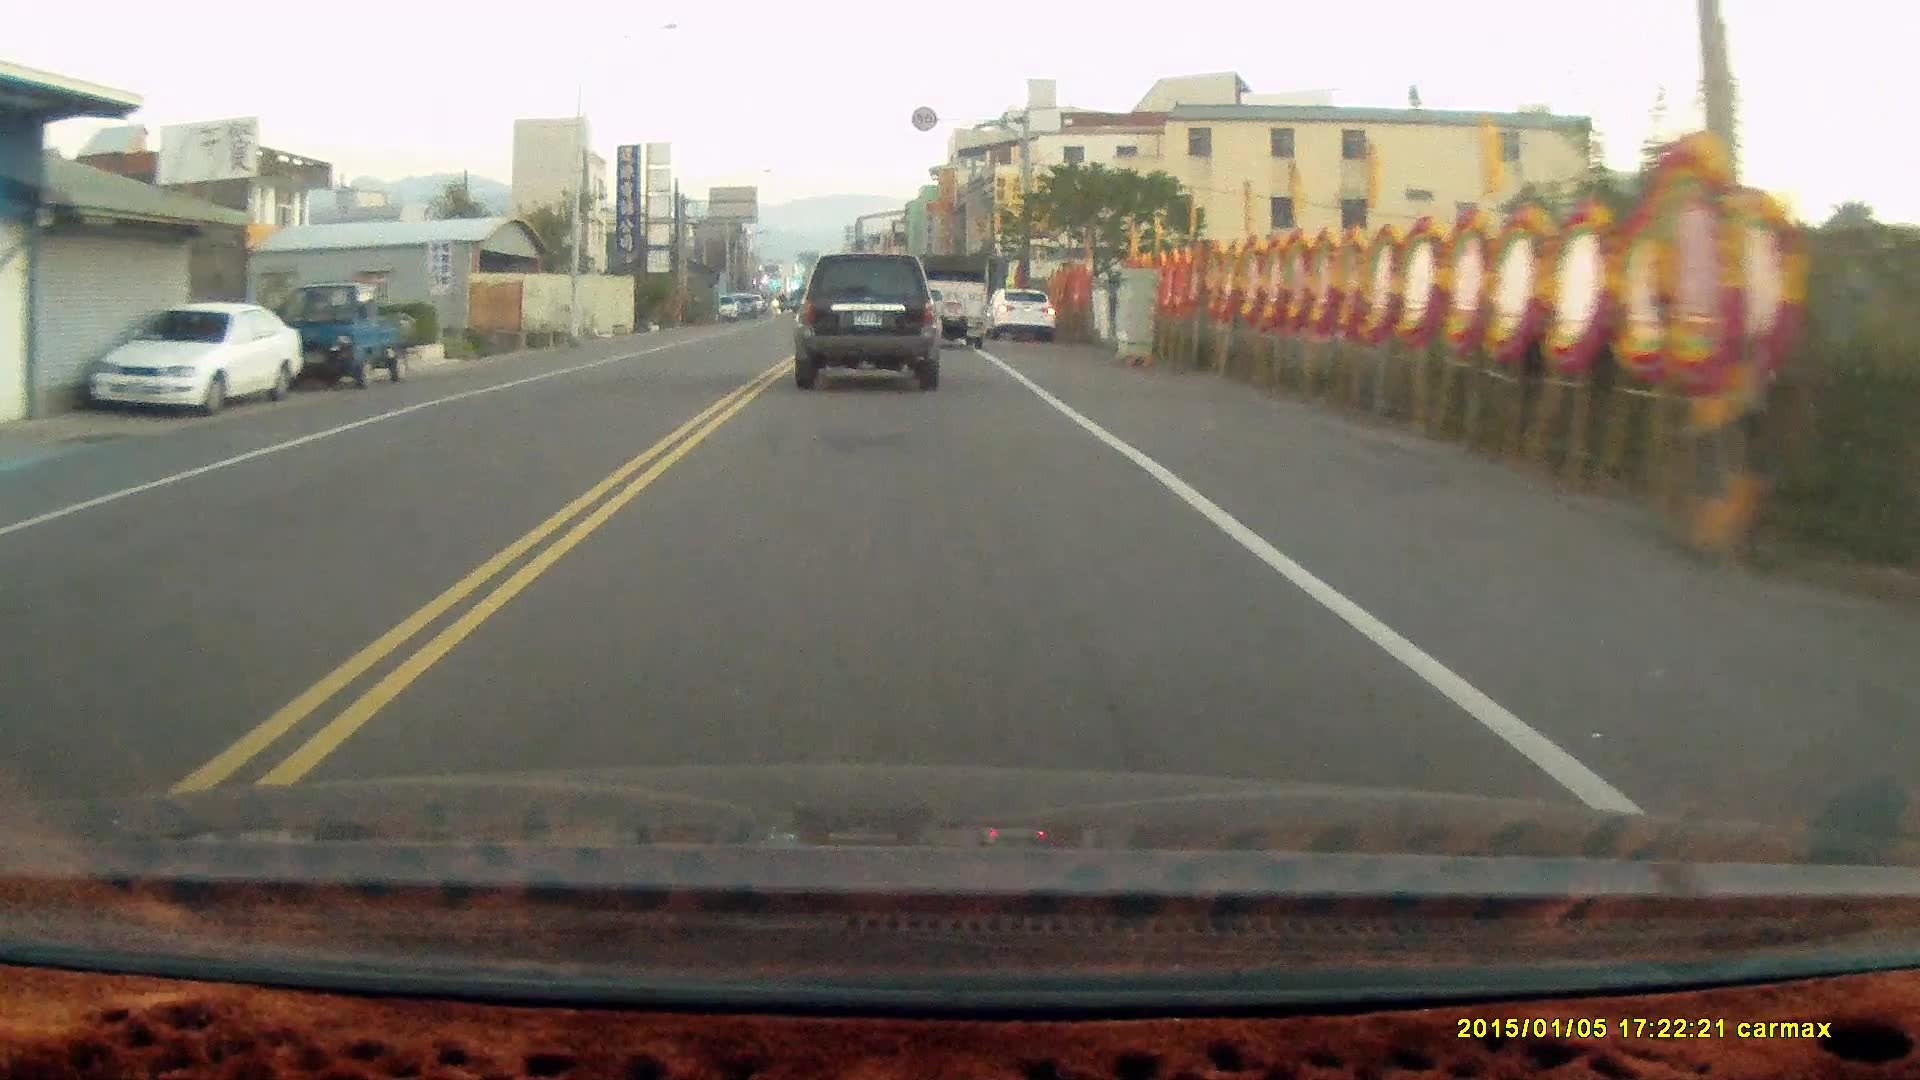vehicle: (86, 303, 301, 415), (796, 255, 945, 396), (266, 285, 426, 396), (915, 252, 993, 353), (992, 286, 1059, 345)
